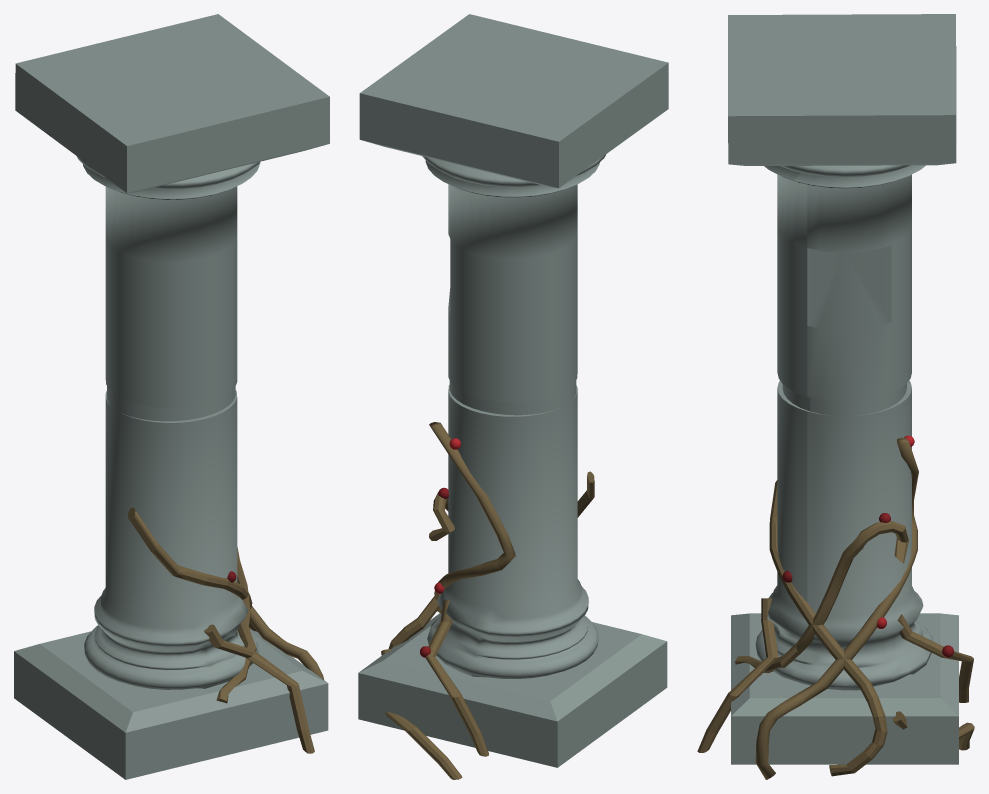
Rendered from SUMMER(Pillar).fbx.
3 renders of one model, left to right at view 1: azimuth 30°, elevation 25°; view 2: azimuth 150°, elevation 25°; view 3: azimuth 270°, elevation 25°, orthographic. The views are drawn at different scales.
Parts seen in each view (by area): view 1: Cylinder, Cube.001, Cube, Cylinder.007, Cylinder.002, Cylinder.003, Cylinder.004; view 2: Cylinder, Cube.001, Cube, Cylinder.004, Cylinder.005, Cylinder.002, Cylinder.006, Cylinder.003; view 3: Cylinder, Cube.001, Cube, Cylinder.004, Cylinder.002, Cylinder.003, Cylinder.007, Cylinder.005, Cylinder.006.
Part boxes in pixels (box(x1,y1,x2,y2)): Cylinder: box(76, 156, 260, 689); Cube.001: box(15, 14, 329, 193); Cube: box(14, 629, 328, 779); Cylinder.007: box(204, 624, 314, 753); Cylinder.002: box(127, 507, 257, 631); Cylinder.003: box(216, 547, 256, 703); Cylinder.004: box(249, 606, 324, 679); Cylinder: box(422, 154, 605, 678); Cube.001: box(359, 14, 668, 188); Cube: box(358, 613, 667, 767); Cylinder.004: box(429, 422, 515, 613); Cylinder.005: box(425, 600, 488, 756); Cylinder.002: box(388, 471, 594, 649); Cylinder.006: box(381, 649, 462, 779); Cylinder.003: box(429, 492, 454, 540); Cylinder: box(755, 165, 932, 690); Cube.001: box(728, 14, 956, 165); Cube: box(731, 613, 958, 764); Cylinder.004: box(755, 437, 918, 779); Cylinder.002: box(769, 480, 887, 776); Cylinder.003: box(735, 521, 908, 673); Cylinder.007: box(697, 598, 778, 752); Cylinder.005: box(897, 614, 973, 702); Cylinder.006: box(892, 711, 974, 750).
Size of the model in its own units: 253 by 750 by 275.
